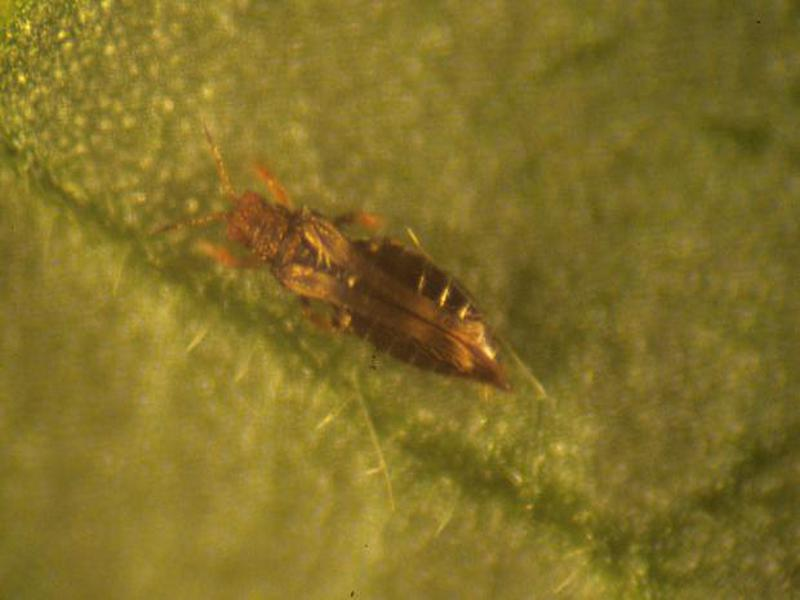Thrips: (198, 172, 538, 404)
